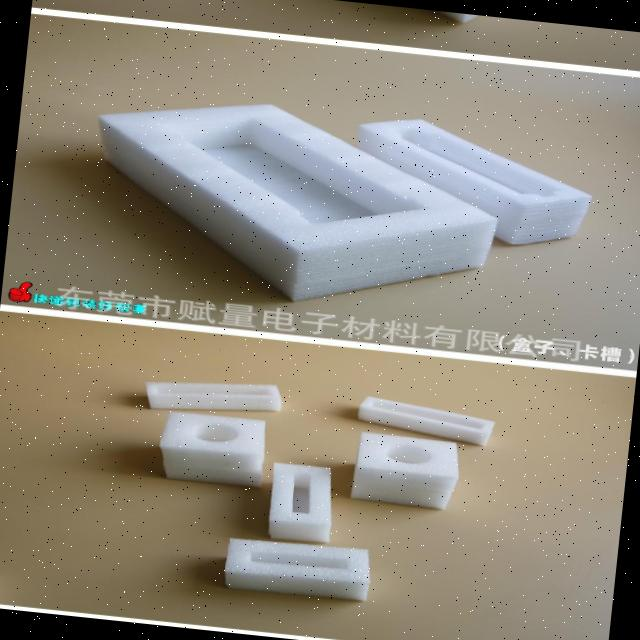styrofoam: (80, 84, 508, 322), (347, 111, 598, 252), (220, 533, 372, 603), (348, 429, 462, 511), (154, 409, 269, 489), (354, 393, 496, 448), (142, 370, 284, 422), (264, 460, 337, 544)
